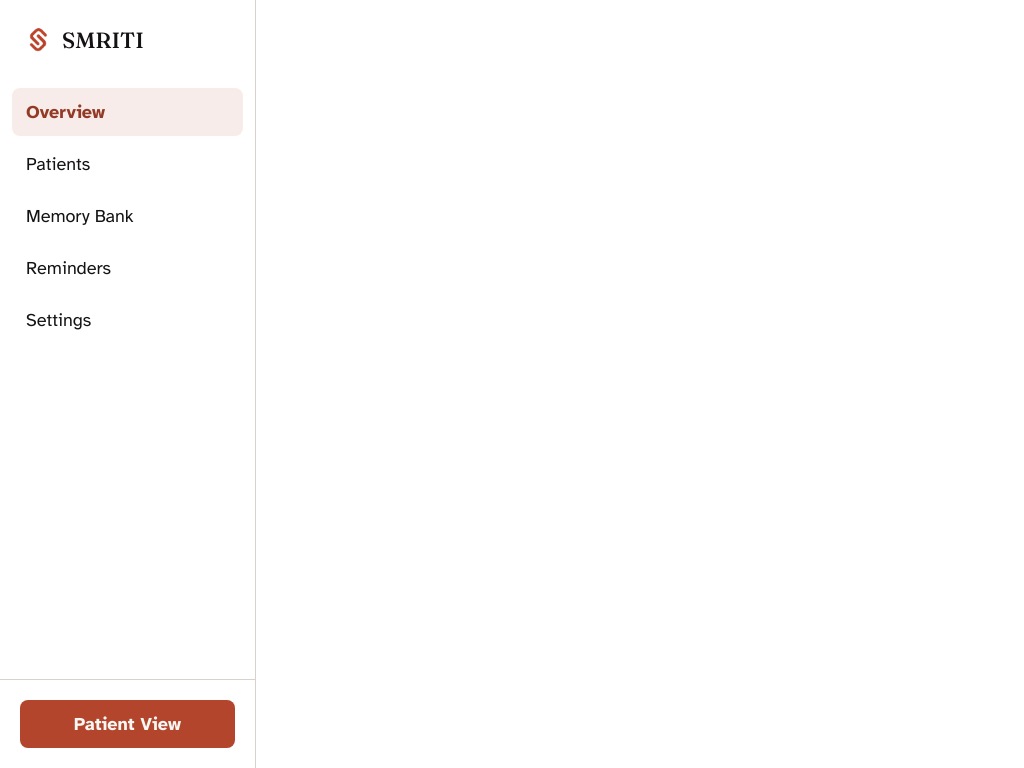
CaregiverRail Patient View › asks before leaving the caregiver area, and stays put on "Stay here"
This screenshot has width=1024, height=768.
Click the button "Patient View": (128, 724) [20,700,235,748]
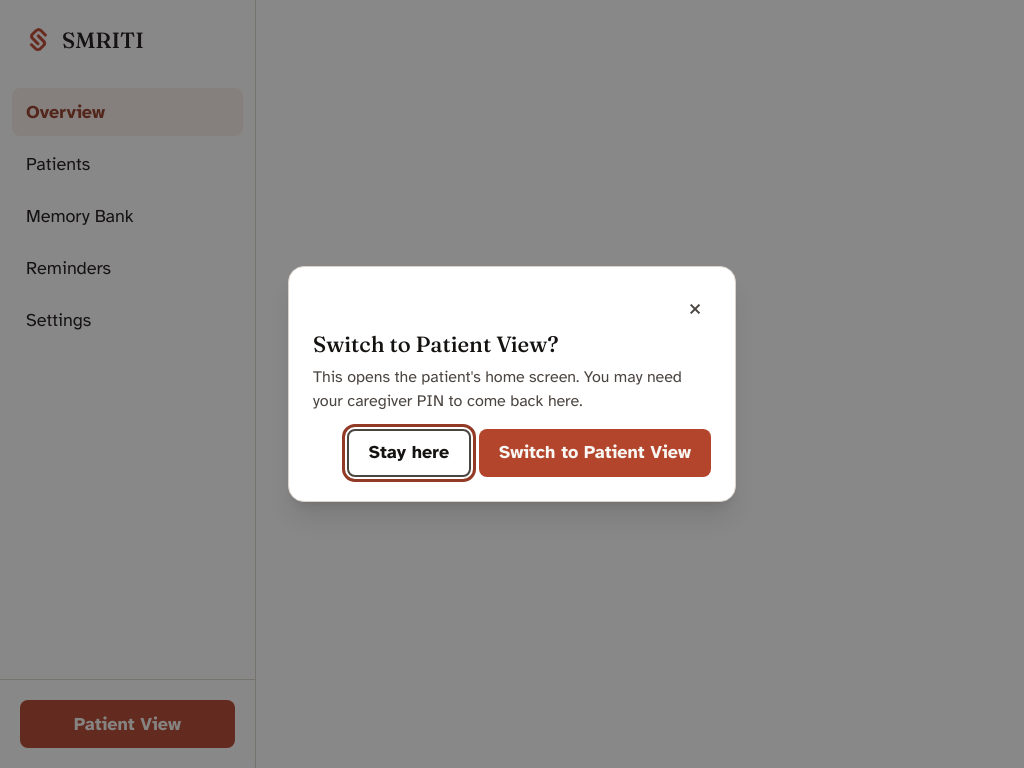
expect the dialog shows "Switch to Patient View?": met, box [313,330,559,358]
Click the button "Stay here": (409, 453) [347,429,471,477]
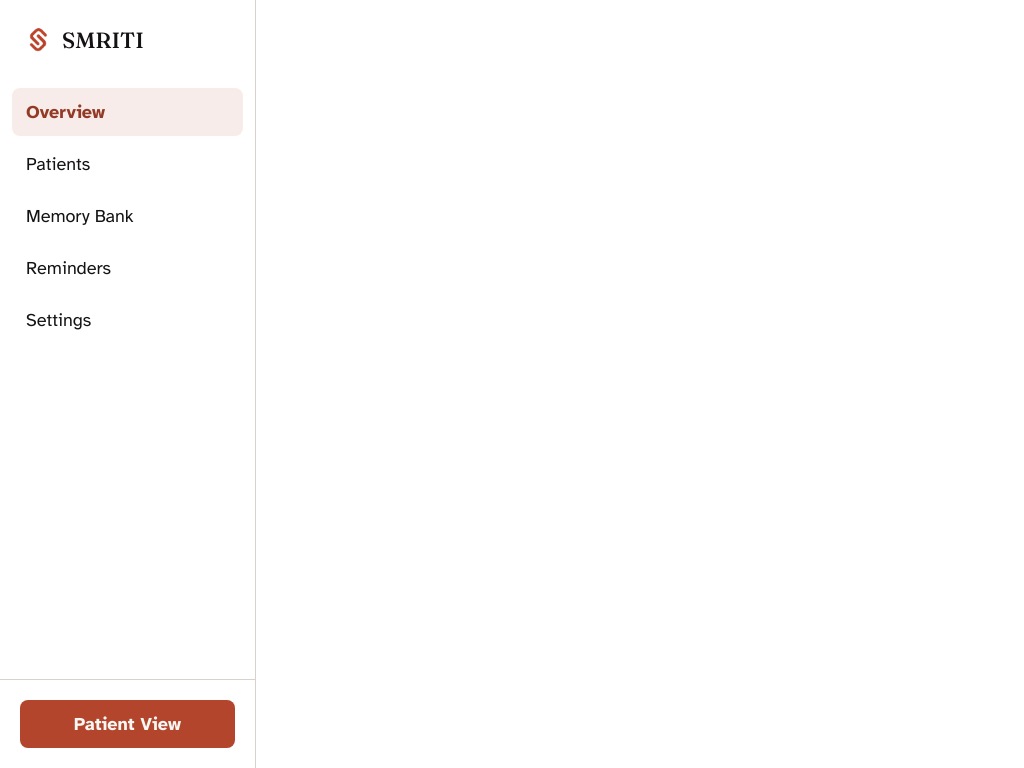
expect the dialog is gone: met
